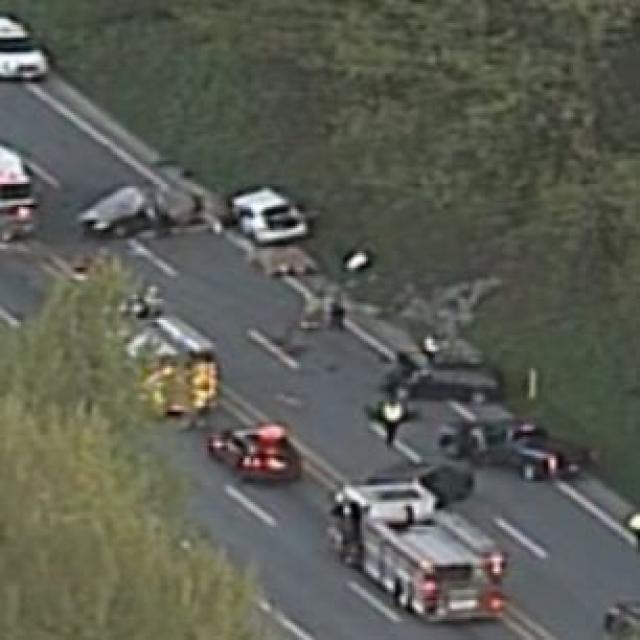traffic_incident: (370, 320, 508, 410), (80, 171, 212, 247)
